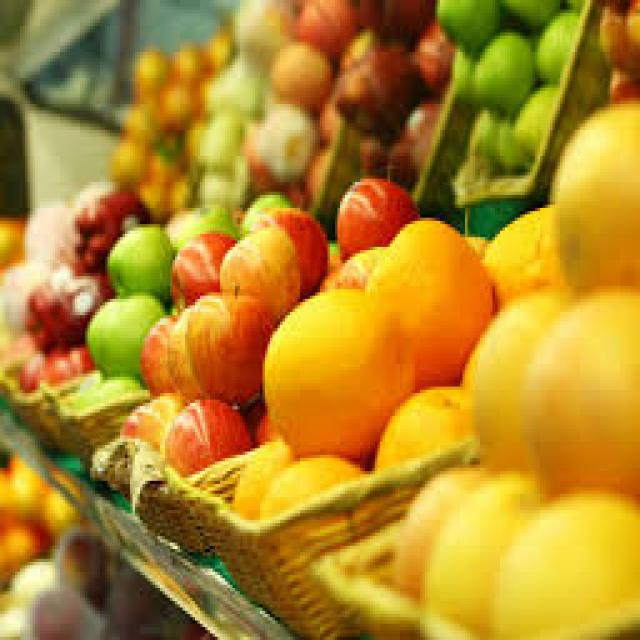organic waste: (258, 279, 410, 455), (522, 283, 638, 500), (368, 211, 490, 387), (490, 491, 638, 636), (422, 471, 550, 637), (465, 286, 575, 474), (550, 98, 638, 292), (395, 458, 505, 595), (182, 279, 272, 396), (327, 36, 415, 133), (480, 198, 558, 306), (252, 452, 370, 516), (220, 214, 300, 308), (370, 390, 470, 464), (250, 198, 325, 289), (85, 296, 170, 376), (335, 172, 413, 254), (158, 396, 242, 471), (162, 289, 222, 393), (65, 185, 145, 260), (170, 227, 232, 312), (105, 221, 173, 296), (230, 435, 288, 520), (252, 101, 312, 182), (470, 29, 532, 107), (22, 263, 82, 341), (250, 100, 310, 178), (98, 568, 162, 636), (385, 100, 440, 178), (270, 42, 332, 110), (58, 516, 112, 594), (32, 578, 102, 637), (45, 276, 113, 335), (0, 259, 52, 331), (22, 195, 72, 263), (132, 390, 190, 448), (205, 58, 265, 114), (292, 0, 360, 49), (435, 0, 500, 49), (532, 6, 578, 74), (510, 82, 555, 150), (140, 309, 180, 383), (318, 244, 382, 289), (0, 455, 42, 520), (230, 0, 285, 49), (410, 22, 450, 88), (360, 0, 432, 36), (170, 202, 235, 237), (0, 507, 42, 559), (155, 72, 200, 120), (235, 188, 287, 228), (495, 107, 527, 172), (462, 108, 500, 162), (595, 4, 625, 72), (38, 341, 90, 380), (195, 110, 243, 152), (110, 133, 145, 185), (450, 46, 478, 110), (500, 0, 558, 29), (62, 166, 110, 198), (120, 98, 160, 136), (190, 169, 232, 205), (145, 134, 180, 176), (42, 481, 70, 533), (132, 46, 162, 94), (70, 377, 135, 399), (138, 175, 168, 221), (240, 393, 275, 432), (200, 23, 232, 65), (225, 143, 247, 201), (0, 334, 32, 370), (120, 400, 150, 435), (15, 348, 45, 383), (302, 152, 328, 192), (0, 217, 22, 263), (172, 42, 198, 78), (625, 3, 637, 78), (318, 94, 340, 133), (608, 72, 638, 100), (170, 169, 192, 205), (462, 227, 492, 247), (597, 0, 637, 6), (560, 0, 582, 10), (323, 240, 335, 253)
